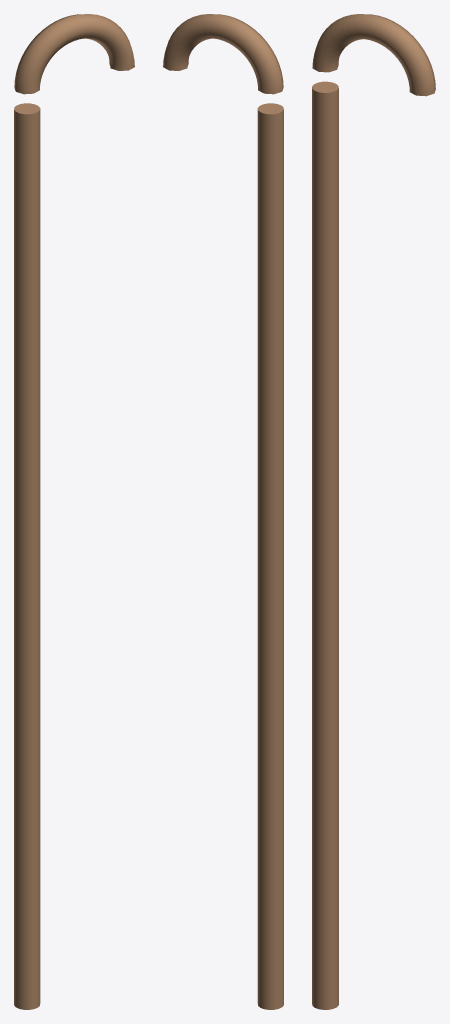
File: cane.glb
3 views of the same model, side by side, from view 1: azimuth 30°, elevation 25°; view 2: azimuth 150°, elevation 25°; view 3: azimuth 330°, elevation 25° (orthographic). The views are drawn at different scales.
Parts seen in each view (by area): view 1: cyl, tor; view 2: cyl, tor; view 3: cyl, tor.
Boxes of the visible parts, x1,y1,x2,y2 form: cyl: [14, 103, 40, 1009]; tor: [14, 14, 134, 94]; cyl: [257, 103, 283, 1009]; tor: [163, 14, 283, 94]; cyl: [312, 81, 338, 1009]; tor: [312, 14, 435, 96].
Bounding box in the file's own units: 0.124 × 0.982 × 0.024.
